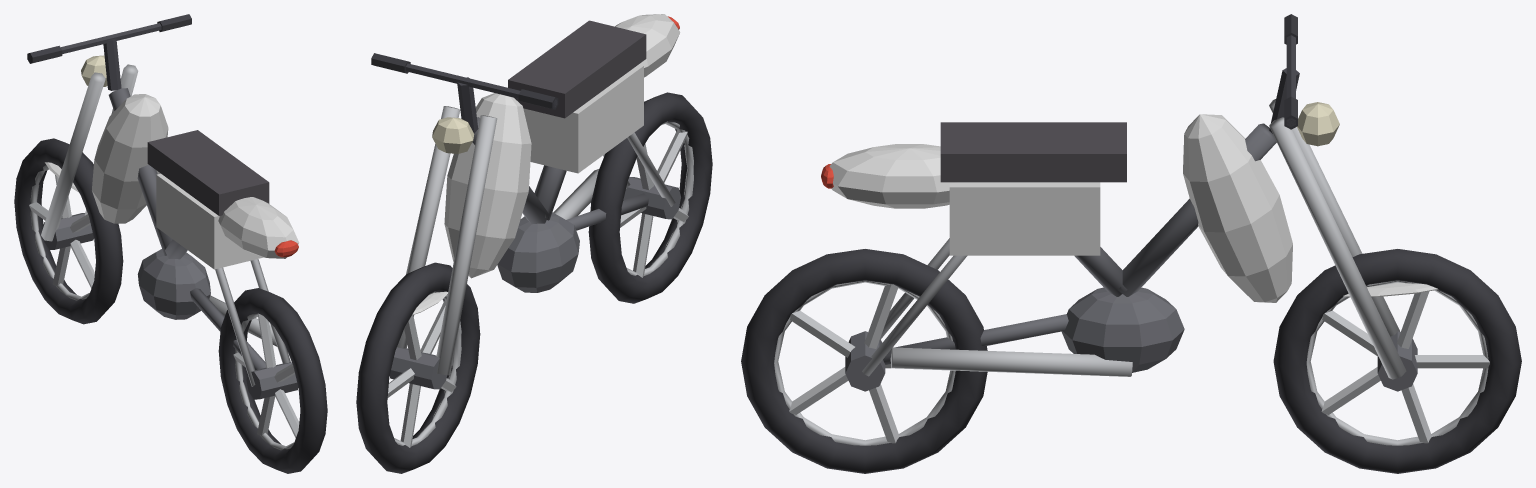
Rendered from bike_underbone.glb.
3 views of the same model, side by side, from view 1: azimuth 30°, elevation 25°; view 2: azimuth 150°, elevation 25°; view 3: azimuth 270°, elevation 25° (orthographic). The views are drawn at different scales.
Parts seen in each view (by area): view 1: chassis, wheel_r, wheel_f, front; view 2: chassis, wheel_f, wheel_r, front; view 3: chassis, wheel_f, wheel_r, front.
Boxes of the visible parts, box(x1,y1,x2,y2) form: chassis: box(92, 88, 299, 386); wheel_r: box(218, 288, 327, 473); wheel_f: box(14, 138, 123, 324); front: box(27, 14, 191, 241); chassis: box(444, 14, 680, 292); wheel_f: box(356, 262, 480, 473); wheel_r: box(588, 92, 712, 303); front: box(371, 53, 558, 375); chassis: box(821, 114, 1292, 376); wheel_f: box(1273, 249, 1521, 473); wheel_r: box(741, 249, 987, 473); front: box(1269, 14, 1438, 379).
Bounding box in the file's own units: 0.54 × 1.02 × 1.76.
